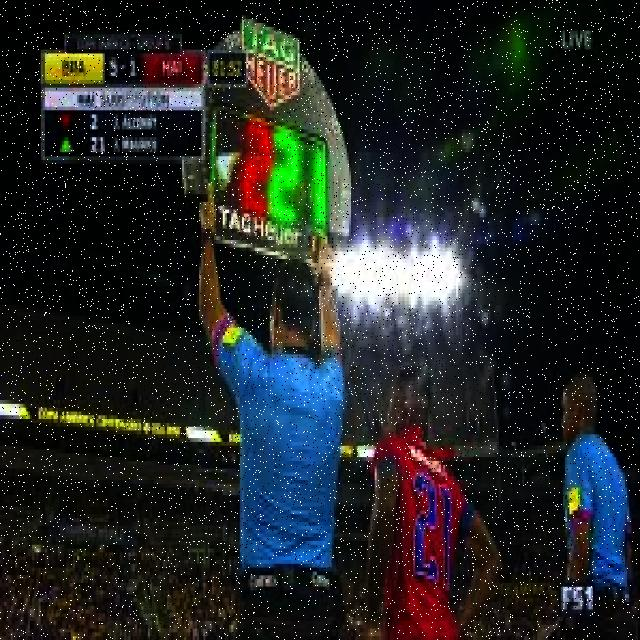substitution: (183, 15, 358, 268)
